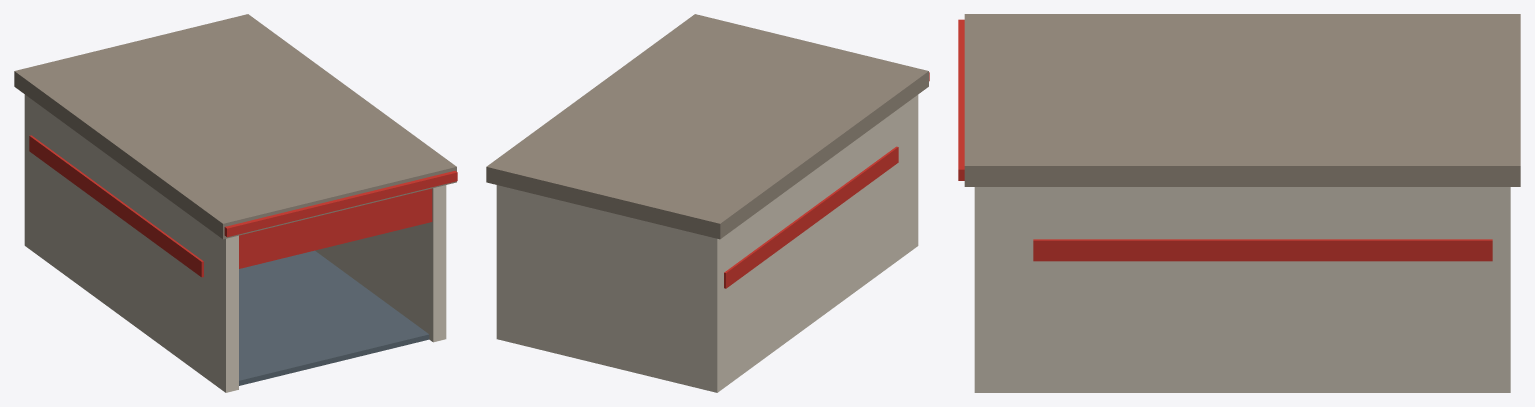
Rendered from pitBox.glb.
3 renders of one model, left to right at view 1: azimuth 30°, elevation 25°; view 2: azimuth 150°, elevation 25°; view 3: azimuth 270°, elevation 25°, orthographic. The views are drawn at different scales.
Parts seen in each view (by area): view 1: pitBox_concreteDark, pitBox_concrete, pitBox_tarmac, pitBox_livery; view 2: pitBox_concrete, pitBox_concreteDark, pitBox_livery; view 3: pitBox_concrete, pitBox_concreteDark, pitBox_livery.
Part boxes in pixels (box(x1,y1,x2,y2)): pitBox_concreteDark: box(14, 14, 456, 239); pitBox_concrete: box(24, 94, 446, 392); pitBox_tarmac: box(239, 250, 429, 385); pitBox_livery: box(29, 135, 457, 277); pitBox_concrete: box(496, 95, 918, 392); pitBox_concreteDark: box(486, 14, 928, 239); pitBox_livery: box(724, 72, 929, 288); pitBox_concrete: box(974, 187, 1510, 392); pitBox_concreteDark: box(964, 14, 1520, 186); pitBox_livery: box(958, 19, 1492, 261).
Bounding box in the file's own units: 14.1 × 10 × 22.05.
